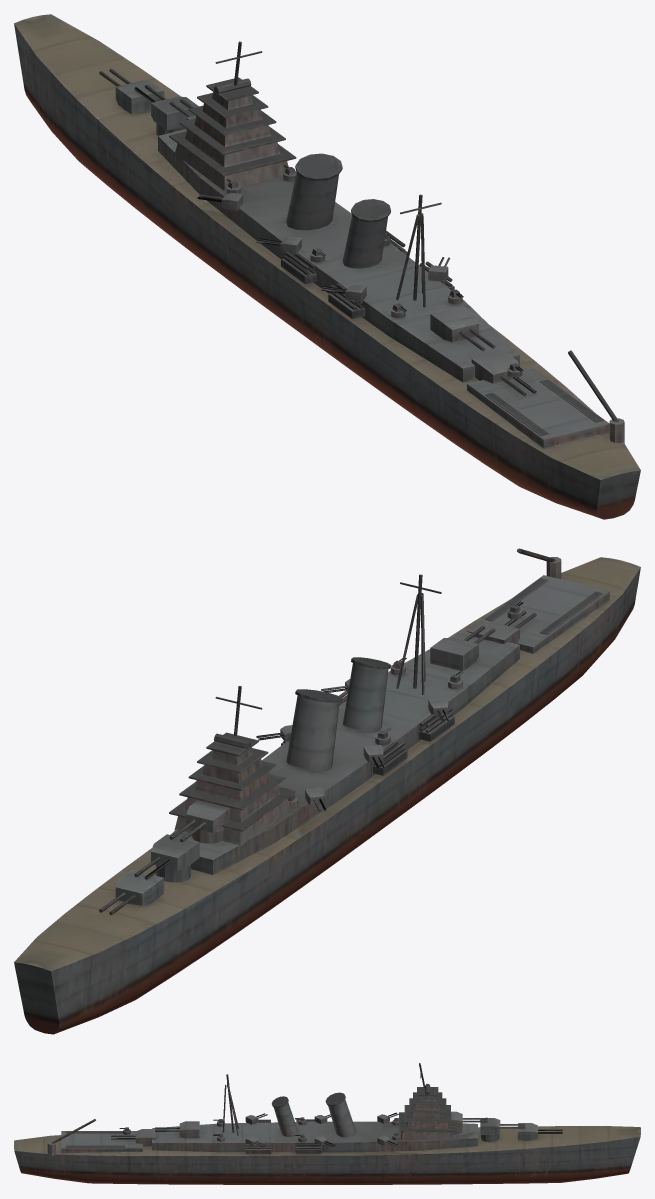
Rendered from cruiser_ijn_baked.glb.
3 views of the same model, one above another, from view 1: azimuth 30°, elevation 25°; view 2: azimuth 150°, elevation 25°; view 3: azimuth 270°, elevation 25° (orthographic). The views are drawn at different scales.
Visible parts, largest first — view 1: cruiser_ijn; view 2: cruiser_ijn; view 3: cruiser_ijn.
Part boxes in pixels (left/top/right/bottom): cruiser_ijn: left=14, top=14, right=640, bottom=519; cruiser_ijn: left=14, top=548, right=640, bottom=1034; cruiser_ijn: left=14, top=1063, right=640, bottom=1184.
Bounding box in the file's own units: 25.34 × 40.76 × 200.
Materials: 1 (1 with a texture image).
